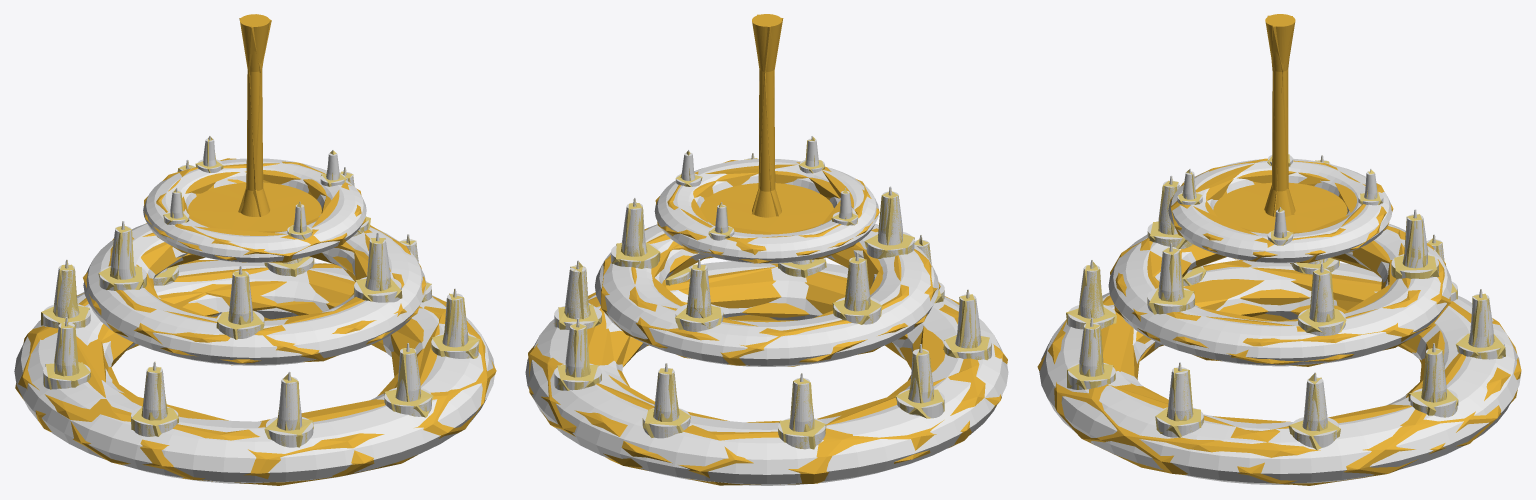
Rendered from Chandelier_candle.glb.
3 views of the same model, side by side, from view 1: azimuth 30°, elevation 25°; view 2: azimuth 150°, elevation 25°; view 3: azimuth 270°, elevation 25° (orthographic).
Visible parts, largest first — view 1: all, Torus, Torus.001, Torus.002, Cylinder, Cylinder.001, Cylinder.005, Torus.003, Cylinder.002; view 2: all, Torus, Torus.001, Torus.002, Cylinder, Cylinder.001, Cylinder.005, Torus.003, Cylinder.002; view 3: all, Torus, Torus.001, Torus.002, Cylinder, Cylinder.001, Cylinder.005, Torus.003, Cylinder.002.
Part boxes in pixels (bbox=[...]): all: bbox=[15, 14, 496, 485]; Torus: bbox=[14, 260, 494, 484]; Torus.001: bbox=[83, 223, 426, 365]; Torus.002: bbox=[143, 158, 366, 262]; Cylinder: bbox=[43, 234, 478, 447]; Cylinder.001: bbox=[99, 159, 401, 338]; Cylinder.005: bbox=[43, 161, 478, 446]; Torus.003: bbox=[240, 14, 321, 216]; Cylinder.002: bbox=[164, 135, 345, 239]; all: bbox=[528, 14, 1007, 485]; Torus: bbox=[525, 261, 1008, 485]; Torus.001: bbox=[595, 224, 938, 366]; Torus.002: bbox=[654, 159, 878, 263]; Cylinder: bbox=[554, 235, 991, 449]; Cylinder.001: bbox=[611, 153, 914, 331]; Cylinder.005: bbox=[555, 153, 991, 448]; Torus.003: bbox=[752, 14, 781, 217]; Cylinder.002: bbox=[676, 136, 857, 240]; all: bbox=[1037, 15, 1521, 485]; Torus: bbox=[1039, 260, 1521, 484]; Torus.001: bbox=[1108, 223, 1452, 366]; Torus.002: bbox=[1168, 158, 1392, 263]; Cylinder: bbox=[1068, 234, 1504, 447]; Cylinder.001: bbox=[1147, 155, 1438, 335]; Cylinder.005: bbox=[1069, 157, 1502, 447]; Torus.003: bbox=[1265, 14, 1295, 216]; Cylinder.002: bbox=[1177, 155, 1383, 245].
Size of the model in its own units: 1.32 by 1.14 by 1.33.
